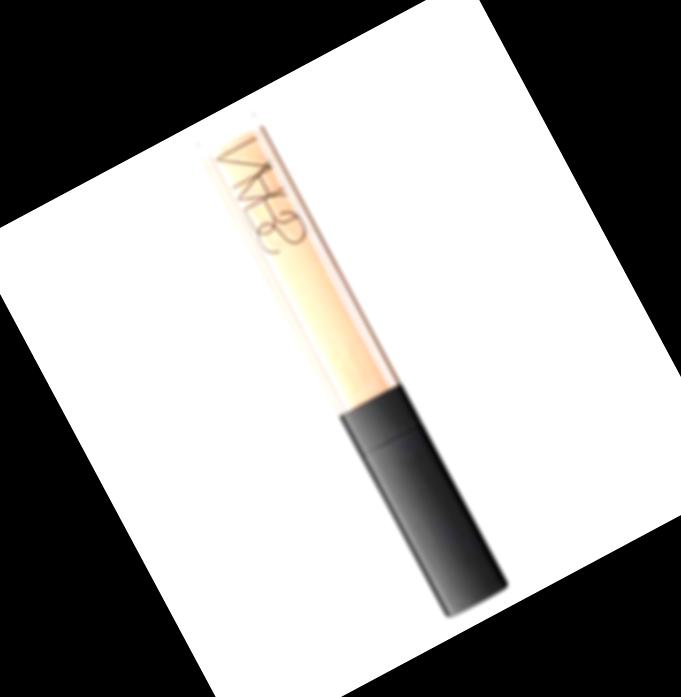cosmetic: (192, 106, 512, 618)
